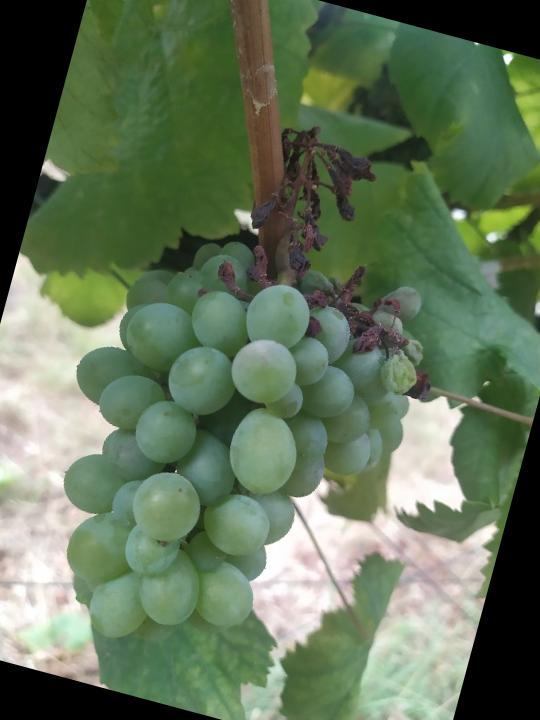grape: (8, 78, 492, 704)
